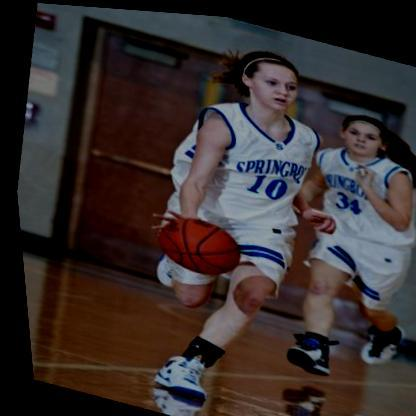basketball: (139, 203, 245, 279)
